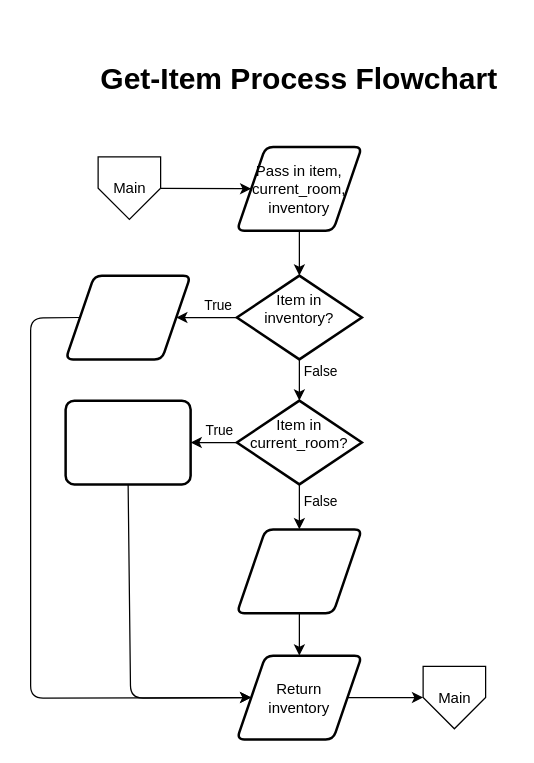
This 534x763 diagram has some shape labels left out. The centre of each missing label's shape, as x and y in pixels:
"Add item to inventory" goes at (127,442).
"Put item already in inventory message" goes at (127,317).
"Put no such item in room message" goes at (298,571).
